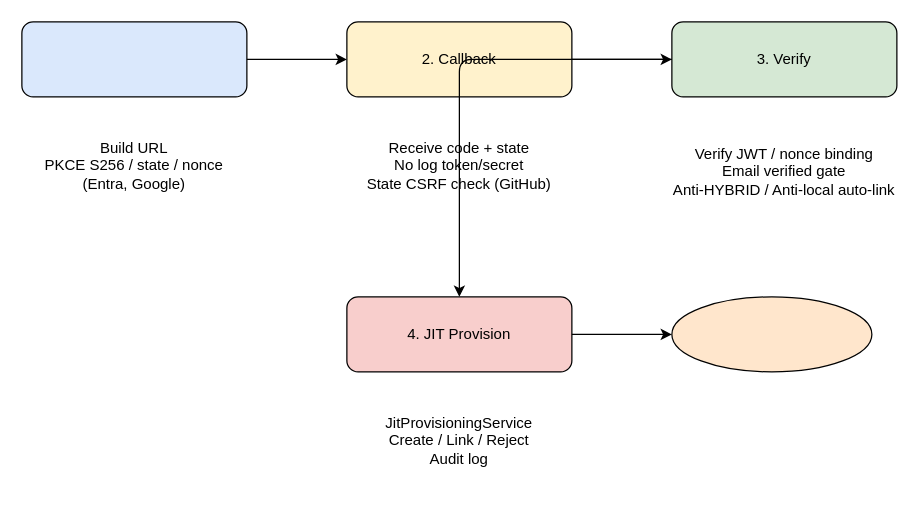
Some shapes in this 919 by 506 pixel diagram are drawn without their labels. The box of each missing label's shape, as (x1, y1, x2, y2) in pixels:
1. Authorize: (21, 21, 247, 97)
Session issued: (671, 296, 872, 372)
